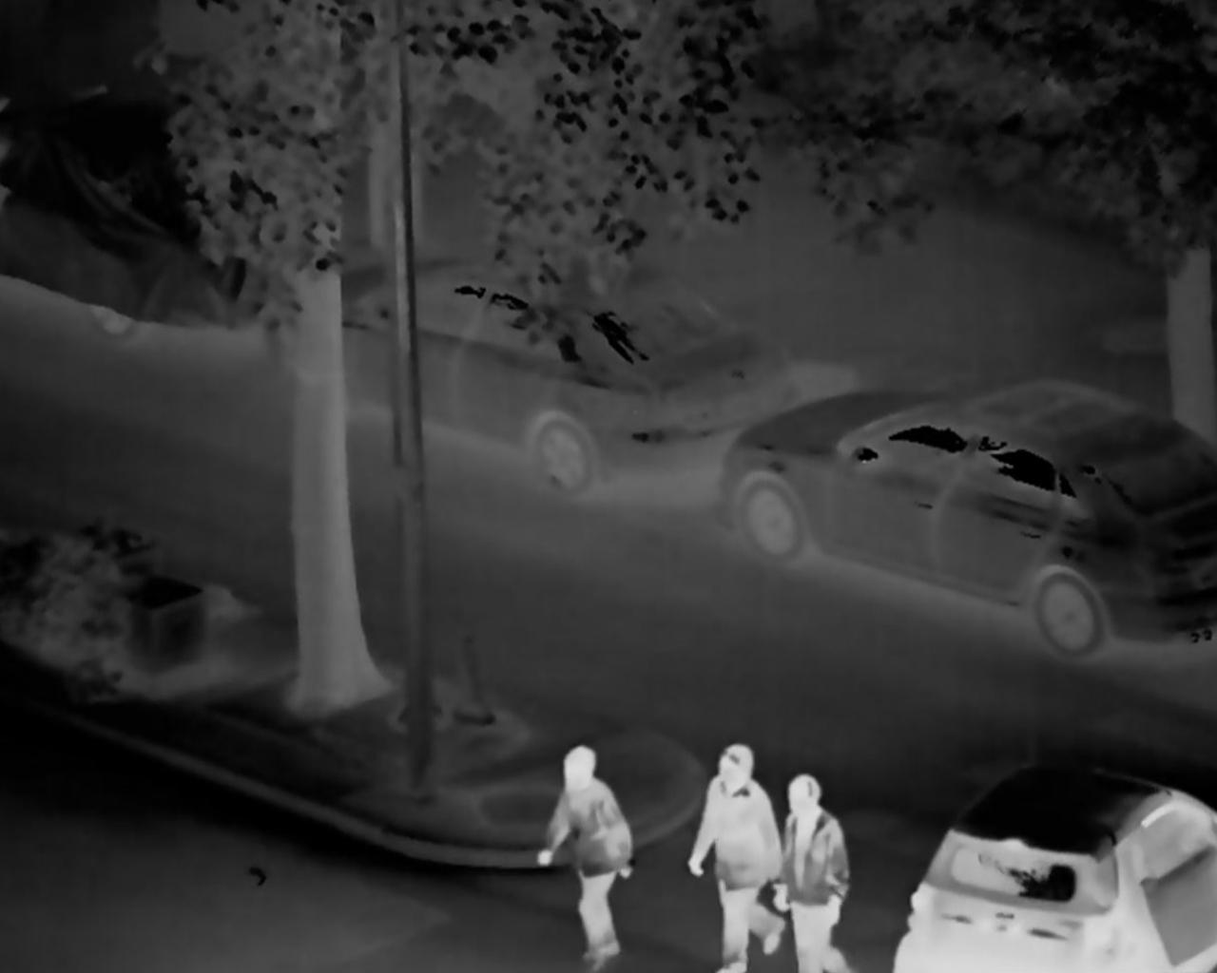person: (534, 737, 645, 966), (684, 736, 785, 973), (778, 766, 860, 973)
